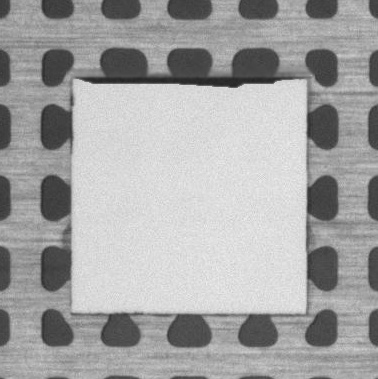DIE_BROKEN: (69, 73, 304, 88)
